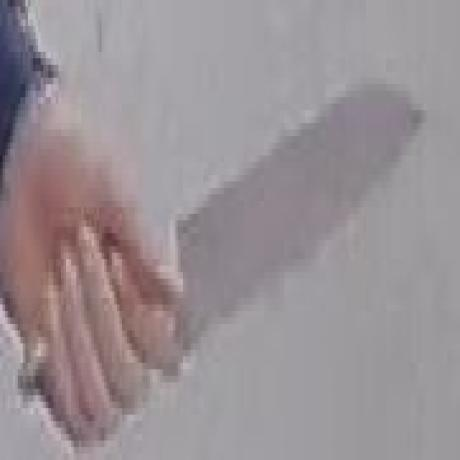1: (0, 0, 183, 447)
weapon: (179, 63, 429, 340)
